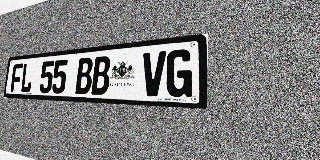5: (52, 59, 68, 94), (39, 61, 54, 93)
B: (91, 56, 111, 95), (75, 57, 93, 94)
F: (10, 63, 23, 92)
G: (165, 48, 193, 97)
L: (20, 62, 34, 93)
V: (141, 51, 166, 97)
